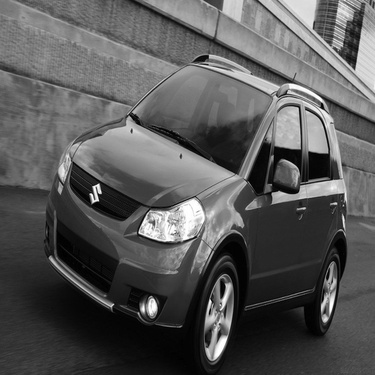car: (34, 44, 351, 371)
